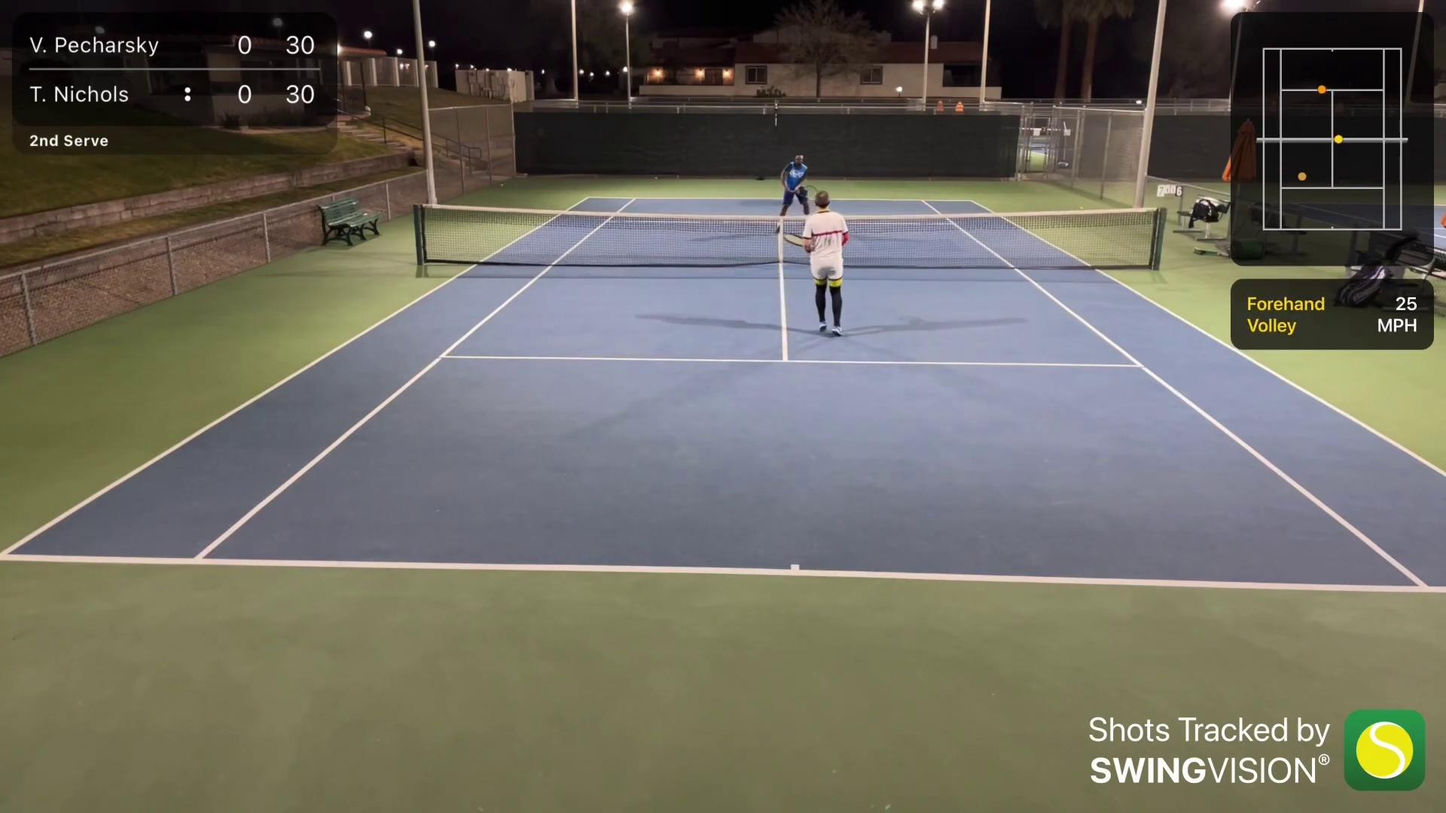ball: (497, 182, 506, 189), (653, 175, 658, 180)
